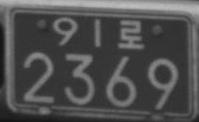1: (86, 18, 109, 48)
2: (23, 51, 54, 105)
3: (63, 52, 95, 106)
6: (105, 55, 137, 109)
9: (146, 56, 179, 110), (52, 16, 77, 46)
로: (117, 18, 144, 50)
